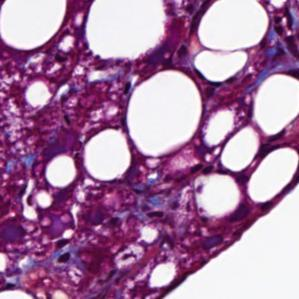inflammation: (52, 235, 75, 266)
